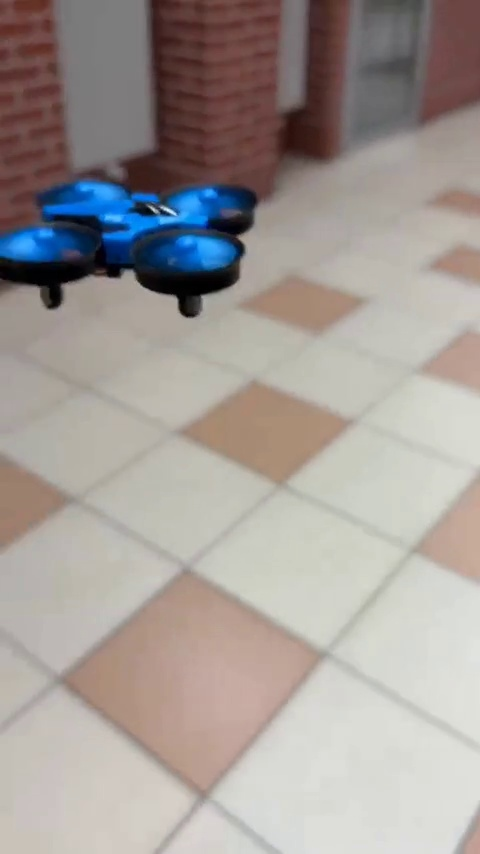drone: (6, 171, 251, 303)
